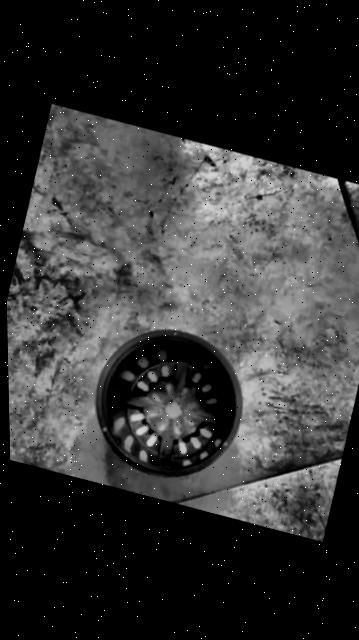pot: (76, 313, 256, 493)
